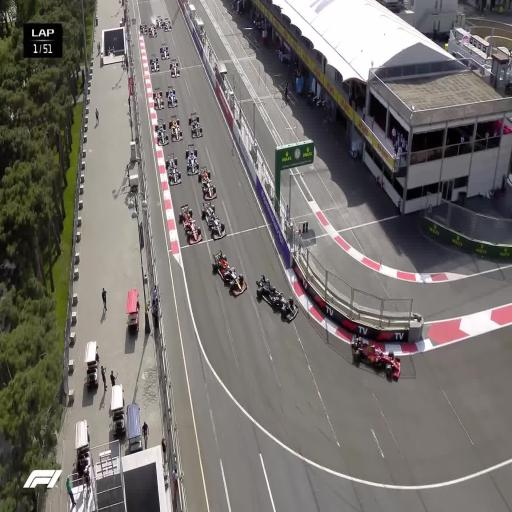f1_car: (351, 336, 400, 380), (256, 274, 298, 321), (212, 250, 246, 295), (179, 204, 202, 244), (202, 201, 226, 239), (198, 165, 217, 199), (166, 153, 181, 184), (185, 145, 199, 175), (154, 119, 169, 146), (169, 114, 182, 141), (189, 112, 202, 137), (166, 85, 177, 108), (153, 88, 163, 110), (170, 59, 179, 77), (160, 44, 170, 60), (150, 54, 159, 71), (140, 22, 148, 35), (149, 24, 157, 37), (163, 18, 171, 31), (155, 16, 163, 28)
